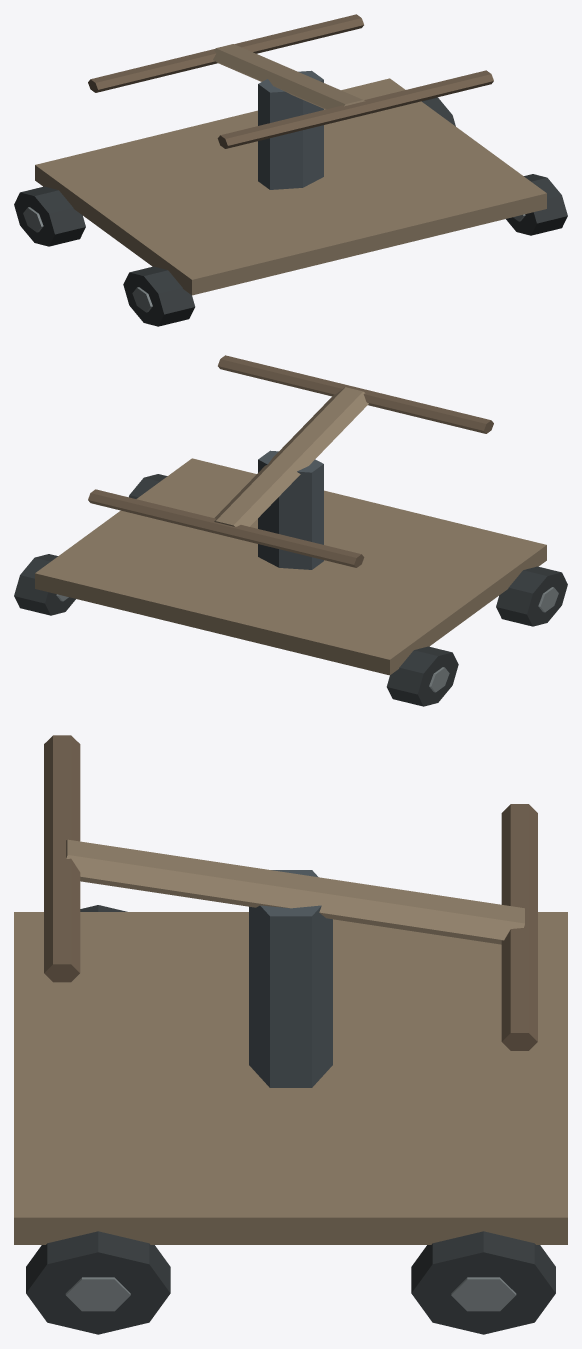
File: rail_handcar.glb
The picture shows the model from 3 angles, top to bottom: view 1: azimuth 30°, elevation 25°; view 2: azimuth 150°, elevation 25°; view 3: azimuth 270°, elevation 25°; orthographic projection. The views are drawn at different scales.
Parts seen in each view (by area): view 1: rail_handcar; view 2: rail_handcar; view 3: rail_handcar.
Part boxes in pixels (<box>): rail_handcar: <box>14,14,567,326</box>; rail_handcar: <box>14,355,567,706</box>; rail_handcar: <box>14,735,567,1334</box>.
Bounding box in the file's own units: 2.88 × 1.2 × 1.92.
